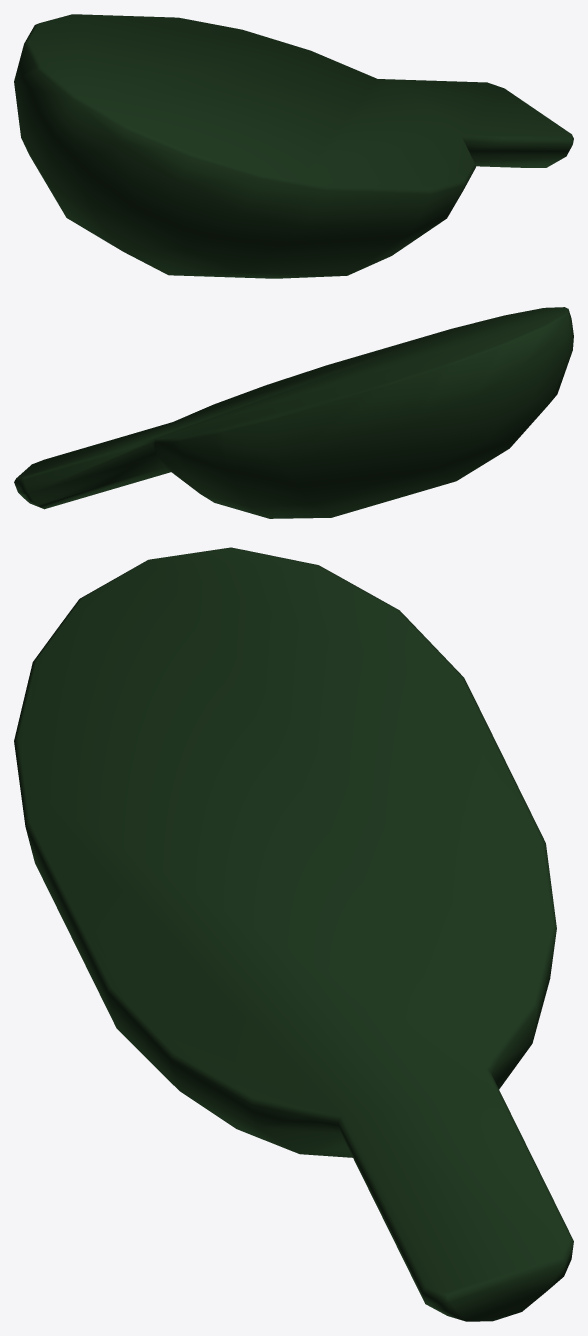
The model's file is WeaponLiquidPaint.glb.
3 renders of one model, top to bottom at view 1: azimuth 30°, elevation 25°; view 2: azimuth 150°, elevation 25°; view 3: azimuth 270°, elevation 25°, orthographic. The views are drawn at different scales.
Parts seen in each view (by area): view 1: LiquidPaint; view 2: LiquidPaint; view 3: LiquidPaint.
Boxes of the visible parts, x1,y1,x2,y2 form: LiquidPaint: (14,14,573,278); LiquidPaint: (14,307,573,518); LiquidPaint: (14,547,573,1321).
Size of the model in its own units: 0.2915 by 0.1384 by 0.1736.
1 material, 1 textured.
